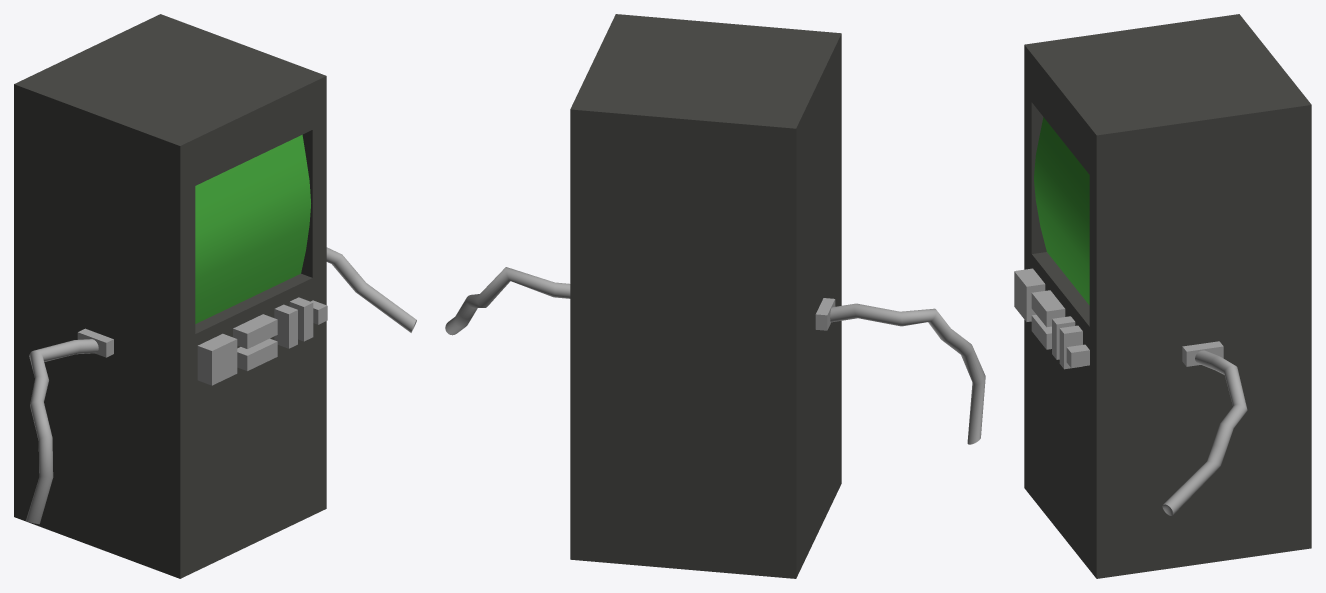
The model's file is RoboDrugMachine1.fbx.
3 views of the same model, side by side, from view 1: azimuth 30°, elevation 25°; view 2: azimuth 150°, elevation 25°; view 3: azimuth 270°, elevation 25° (orthographic). The views are drawn at different scales.
Visible parts, largest first — view 1: polySurface69; view 2: polySurface69; view 3: polySurface69.
Part boxes in pixels (x1,y1,x2,y2): polySurface69: [14, 14, 416, 578]; polySurface69: [445, 14, 985, 578]; polySurface69: [1014, 14, 1311, 578].
Bounding box in the file's own units: 2.35 × 2.16 × 1.31.
